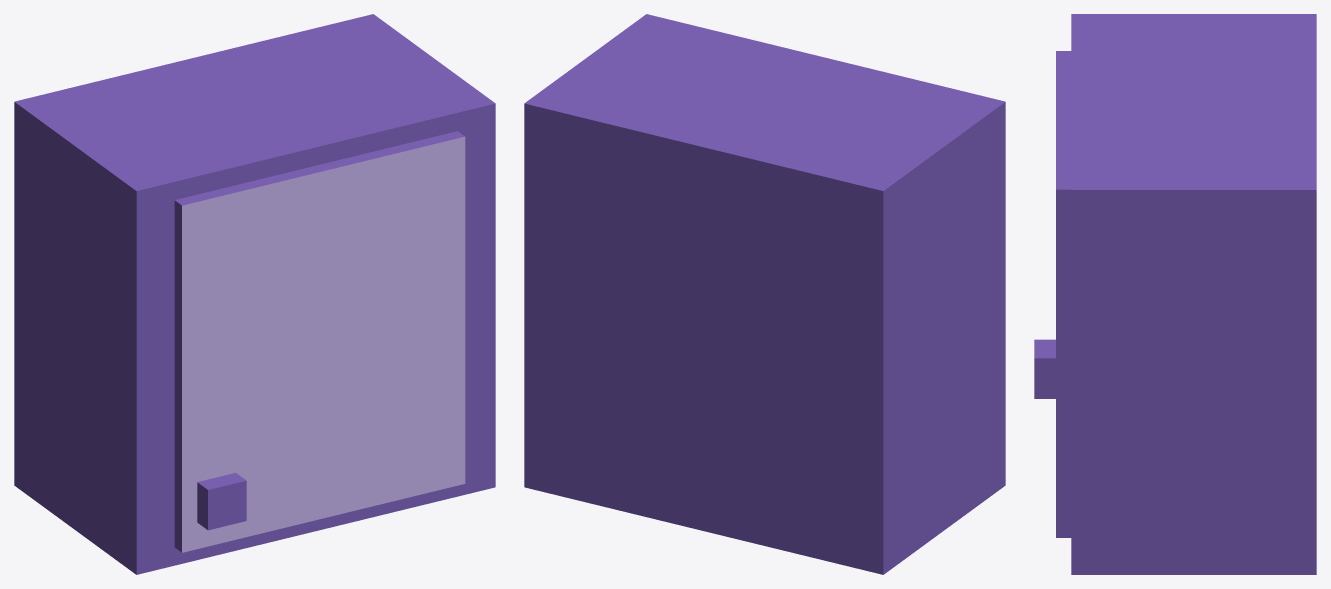
The model's file is estanteIndividual.fbx.
3 views of the same model, side by side, from view 1: azimuth 30°, elevation 25°; view 2: azimuth 150°, elevation 25°; view 3: azimuth 270°, elevation 25° (orthographic).
Parts seen in each view (by area): view 1: estante; view 2: estante; view 3: estante.
Part boxes in pixels (x1,y1,x2,y2): estante: (14,14,495,574); estante: (524,14,1005,574); estante: (1034,14,1316,574).
Size of the model in its own units: 277 by 283 by 188.
